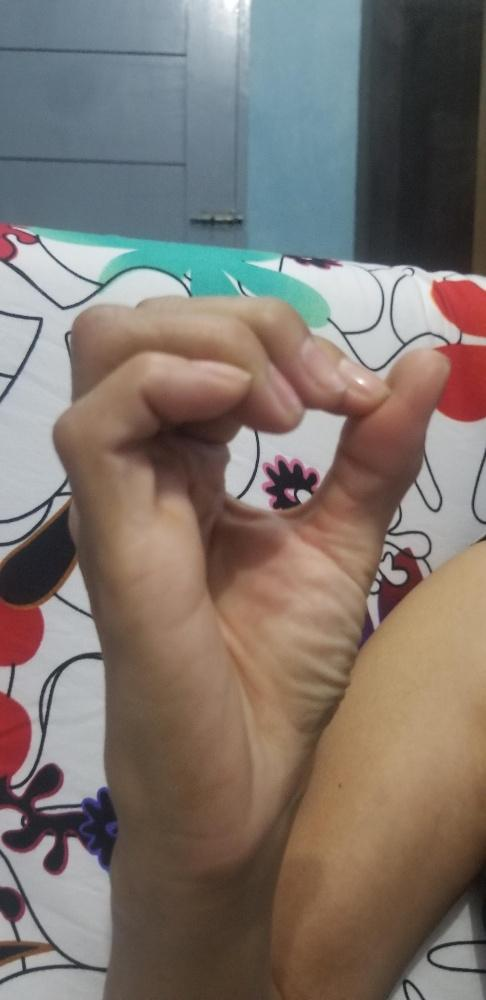o: (49, 286, 451, 873)
